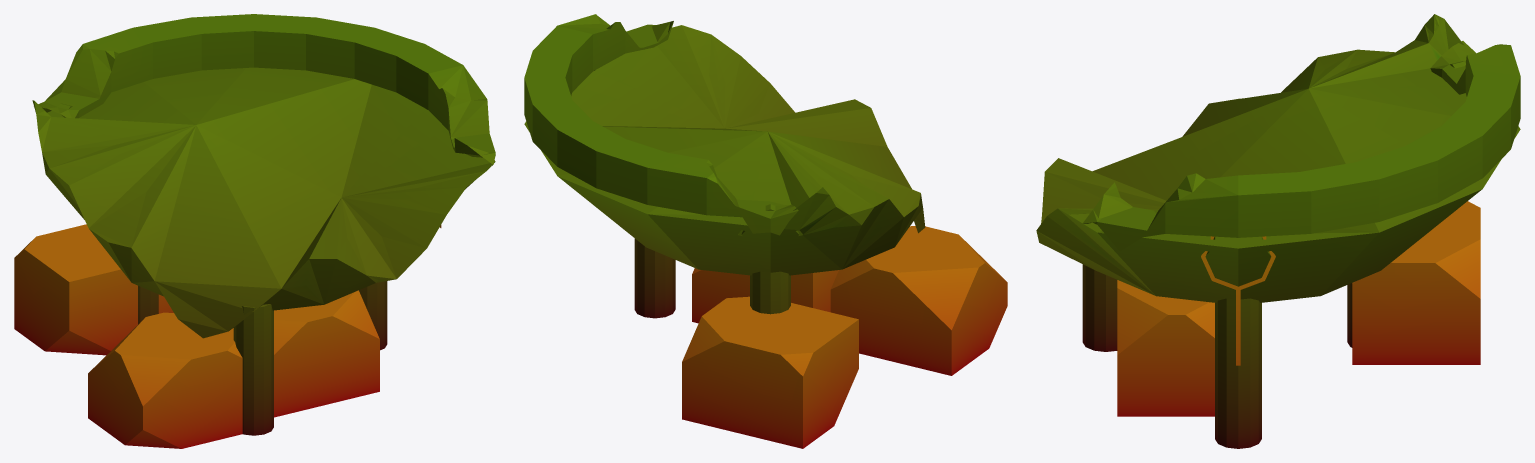
Rendered from brazier_broken.glb.
3 renders of one model, left to right at view 1: azimuth 30°, elevation 25°; view 2: azimuth 150°, elevation 25°; view 3: azimuth 270°, elevation 25°, orthographic. The views are drawn at different scales.
Parts seen in each view (by area): view 1: brazier_broken; view 2: brazier_broken; view 3: brazier_broken.
Part boxes in pixels (x1=…): brazier_broken: x1=14, y1=14, x2=495, y2=448; brazier_broken: x1=524, y1=14, x2=1007, y2=448; brazier_broken: x1=1036, y1=14, x2=1520, y2=448.
Size of what is drawn, in the model's own units: 2.19 by 1.4 by 2.06.
